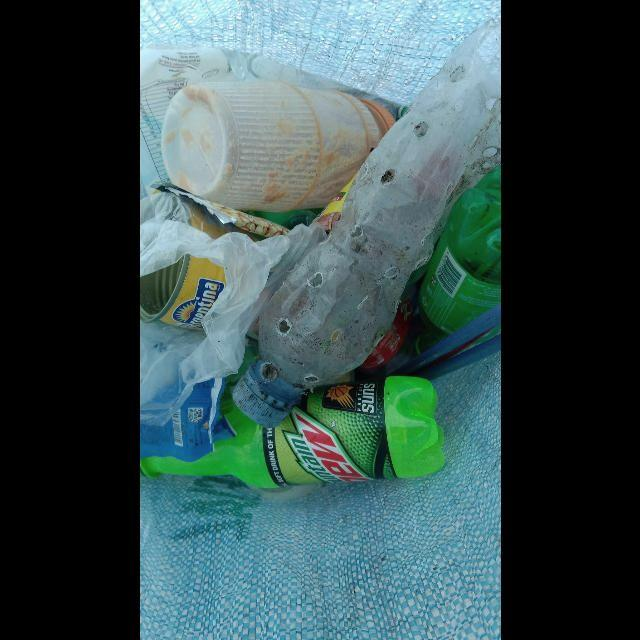aluminum: (139, 191, 238, 335)
plastic_bottle: (232, 26, 501, 430), (139, 376, 446, 489), (406, 166, 501, 356)
plastic_container: (163, 78, 401, 213)
